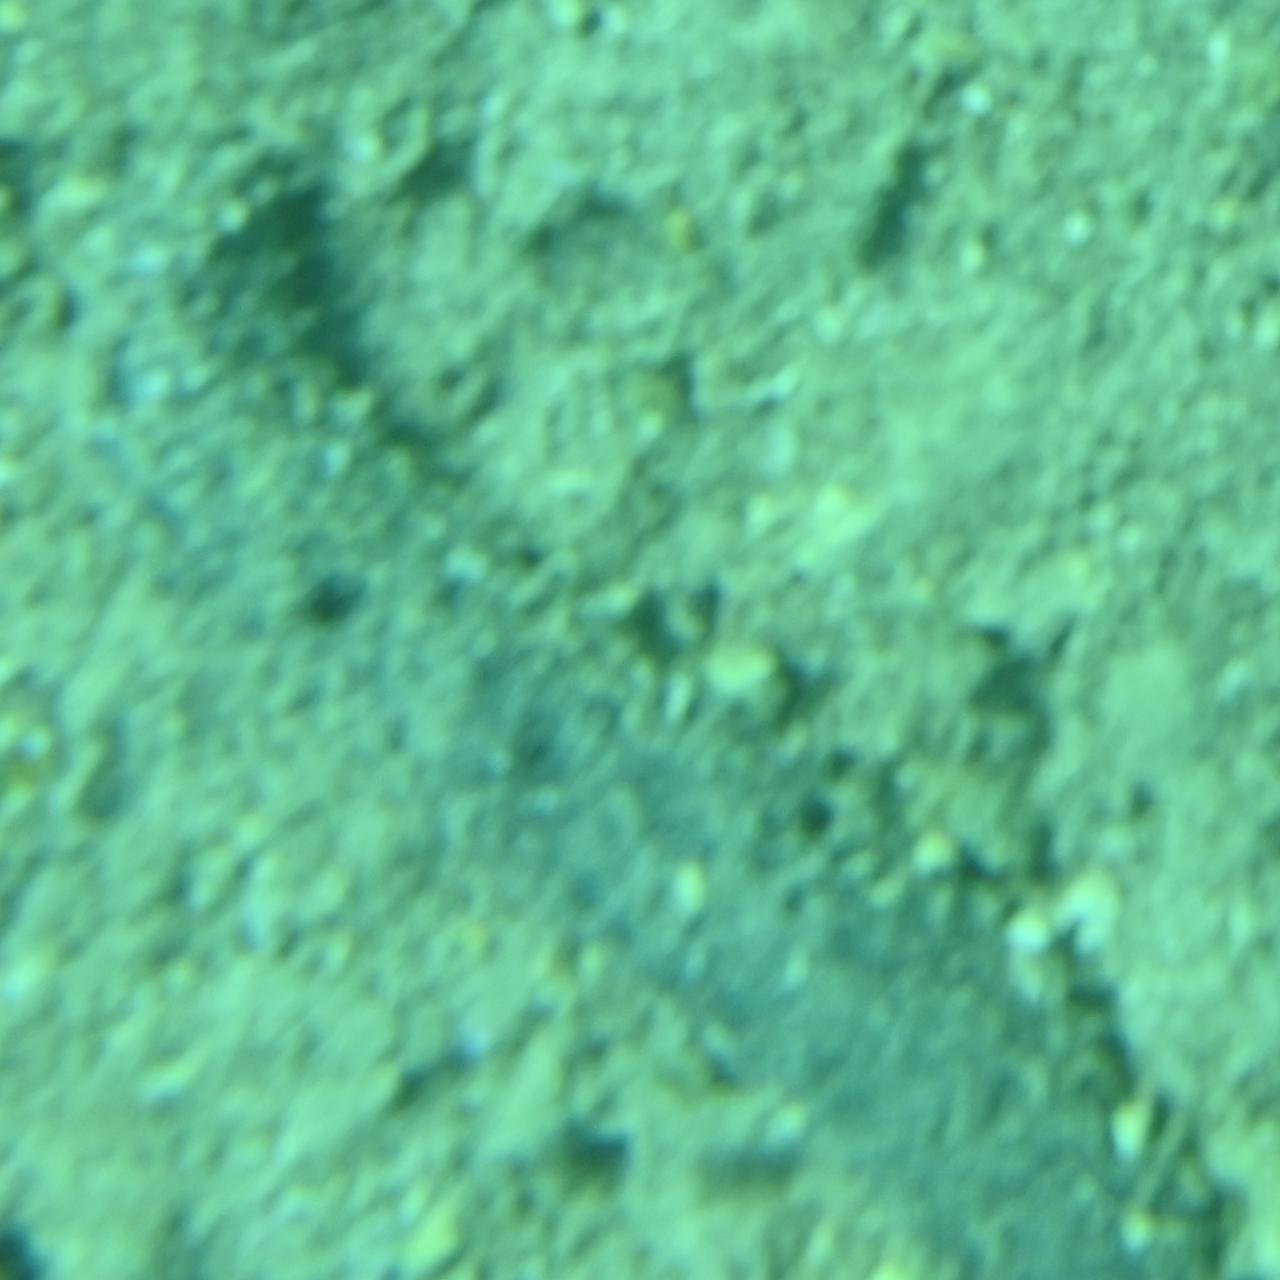Holothuria tubulosa: (38, 155, 1242, 1280)
